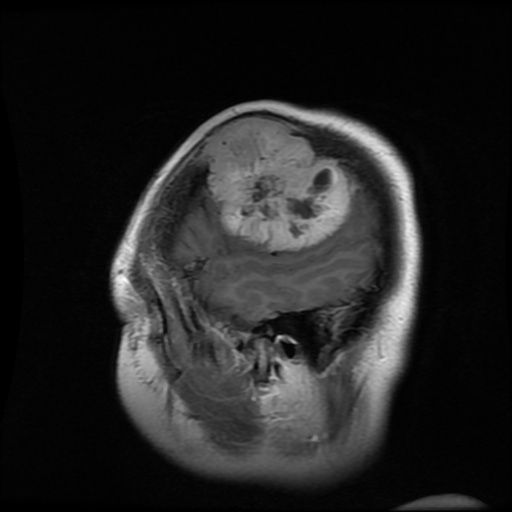meningioma: (200, 118, 350, 250)
